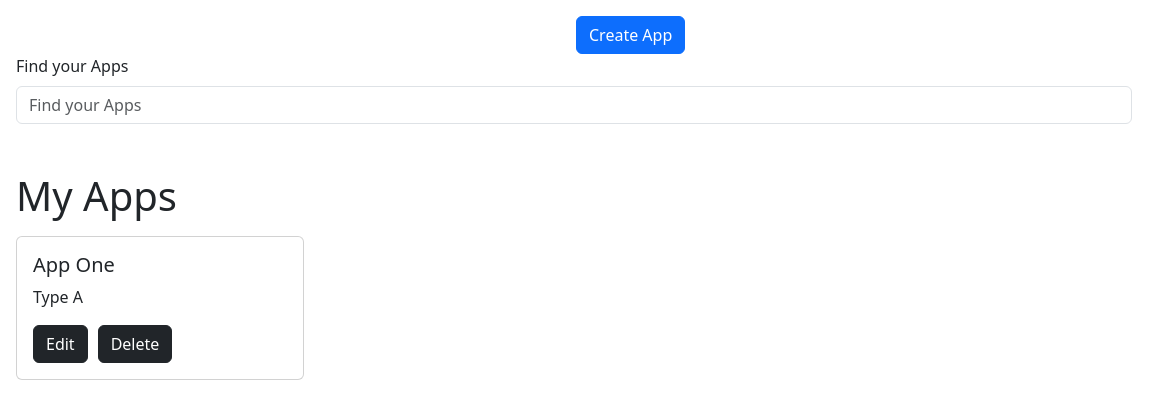
Dashboard Component › handles delete action correctly
Click the button "Delete" at (135, 344), box [98,325,172,363]
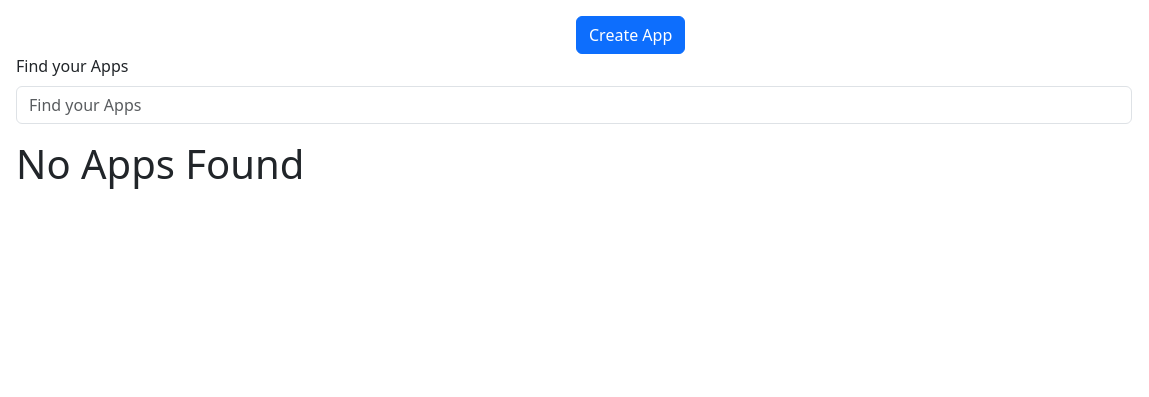
Result: the text "App One" is gone
